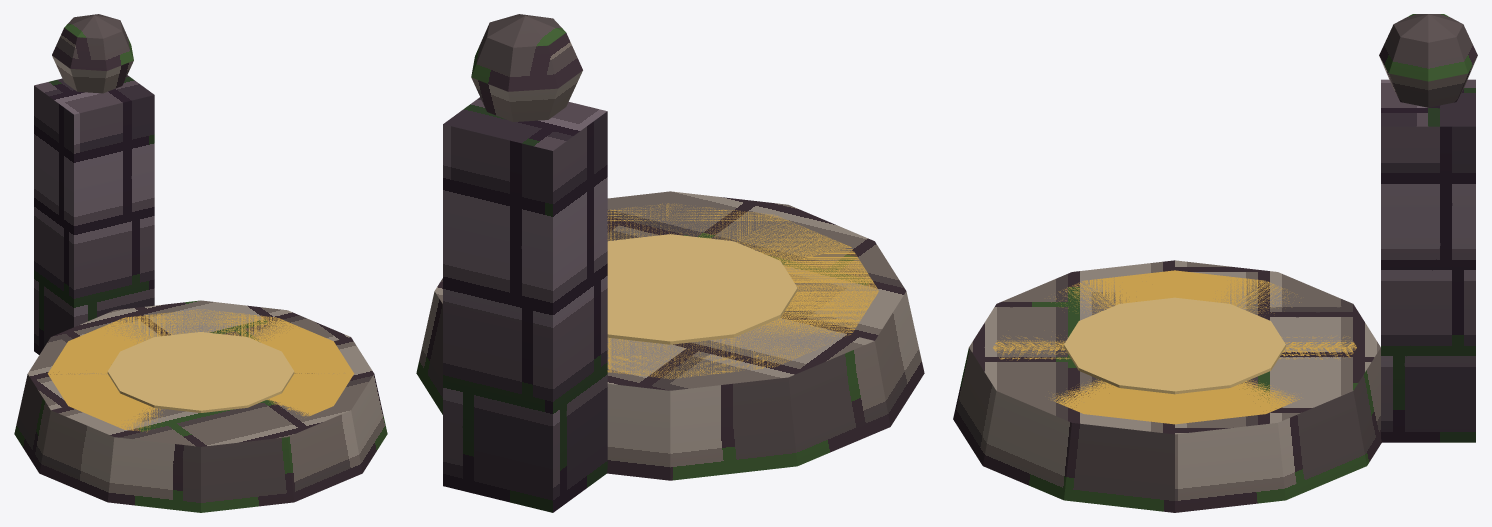
File: marble_spring.glb
The picture shows the model from 3 angles, left to right: view 1: azimuth 30°, elevation 25°; view 2: azimuth 150°, elevation 25°; view 3: azimuth 270°, elevation 25°; orthographic projection. The views are drawn at different scales.
Visible parts, largest first — view 1: marble_spring; view 2: marble_spring; view 3: marble_spring.
Boxes of the visible parts, x1=… form: marble_spring: x1=14, y1=14, x2=387, y2=512; marble_spring: x1=416, y1=14, x2=924, y2=512; marble_spring: x1=953, y1=14, x2=1477, y2=512.
Bounding box in the file's own units: 2.8 × 2.82 × 3.31.
Materials: 2 (1 with a texture image).
